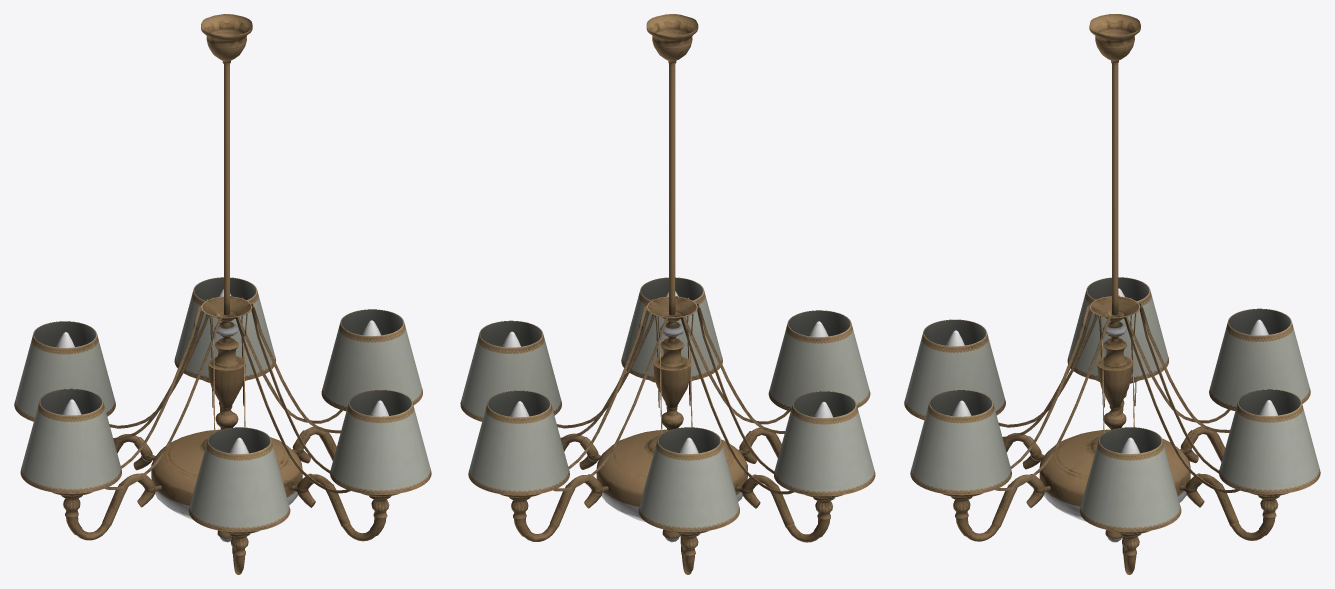
The model's file is Chandelier_02.glb.
The picture shows the model from 3 angles, left to right: view 1: azimuth 30°, elevation 25°; view 2: azimuth 150°, elevation 25°; view 3: azimuth 270°, elevation 25°; orthographic projection.
Visible parts, largest first — view 1: Chandelier_02; view 2: Chandelier_02; view 3: Chandelier_02.
Part boxes in pixels (x1,y1,x2,y2): Chandelier_02: (14, 14, 431, 574); Chandelier_02: (460, 14, 875, 574); Chandelier_02: (904, 14, 1320, 574).
Size of the model in its own units: 0.679 by 0.8481 by 0.619.
2 materials, 1 textured.
